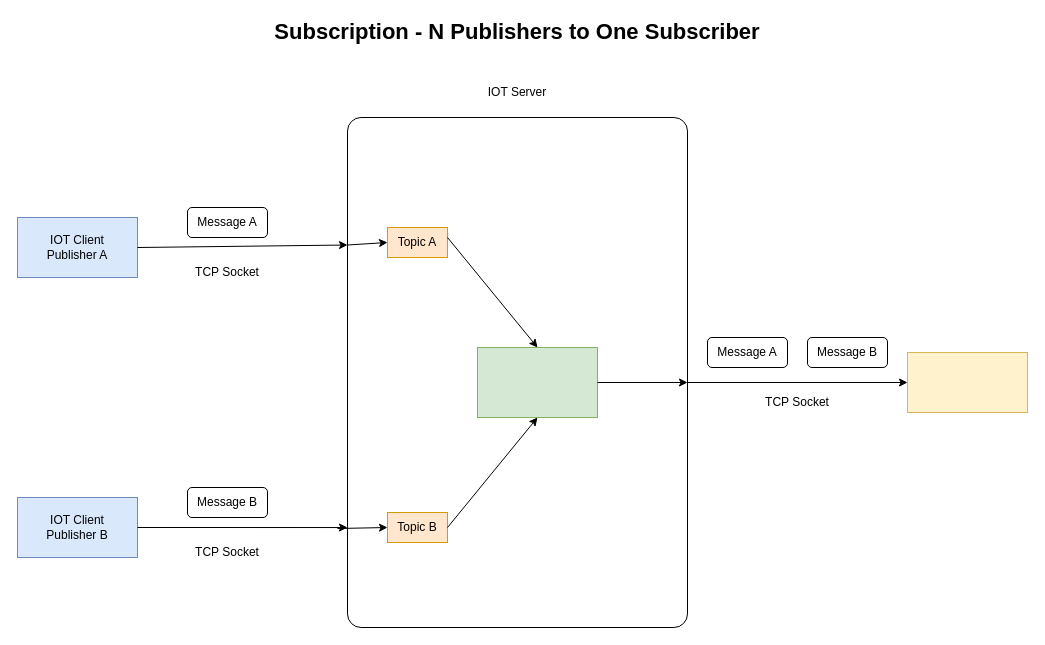
Image size: 1045x645. Some labels were removed from this diagram. Each missing label, with the centre of its shape:
"IOT Client Subscriber X" belongs at pixel 967 382.
"Subscription X Topic A Topic B" belongs at pixel 537 382.
